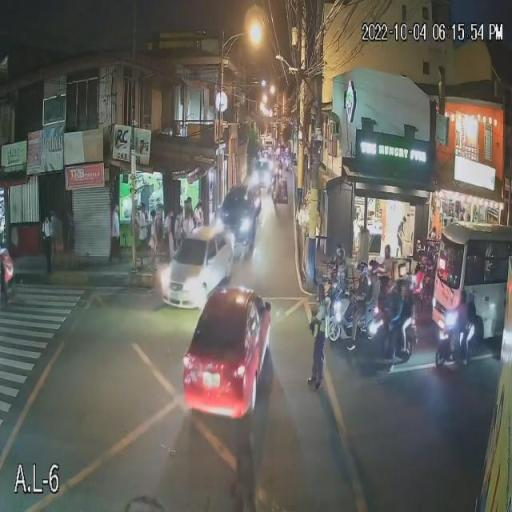helmet: (388, 286, 403, 305), (356, 263, 371, 280), (403, 275, 414, 291), (458, 291, 467, 308), (370, 262, 379, 279), (336, 248, 345, 264), (469, 294, 476, 308)
motorcycle: (365, 317, 413, 364), (431, 331, 475, 367), (343, 297, 354, 346), (329, 296, 340, 341)
rider: (354, 277, 368, 333), (402, 286, 416, 338), (389, 288, 403, 340), (334, 248, 346, 296), (368, 277, 380, 322), (456, 304, 466, 345), (466, 306, 477, 337)
